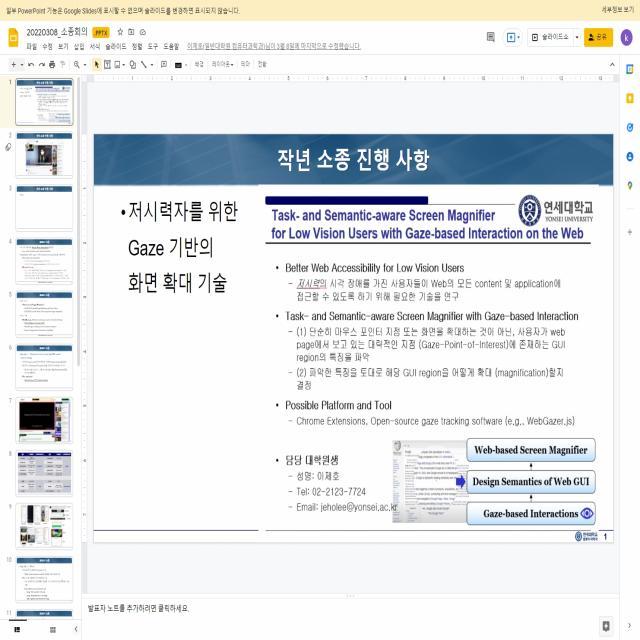menu-bar: (479, 26, 636, 50)
menu-panel: (23, 41, 364, 74)
